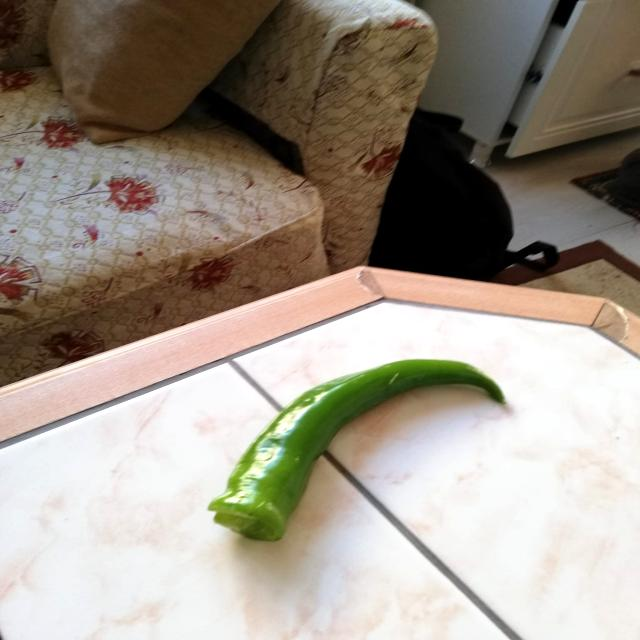green pepper: (204, 352, 511, 545)
